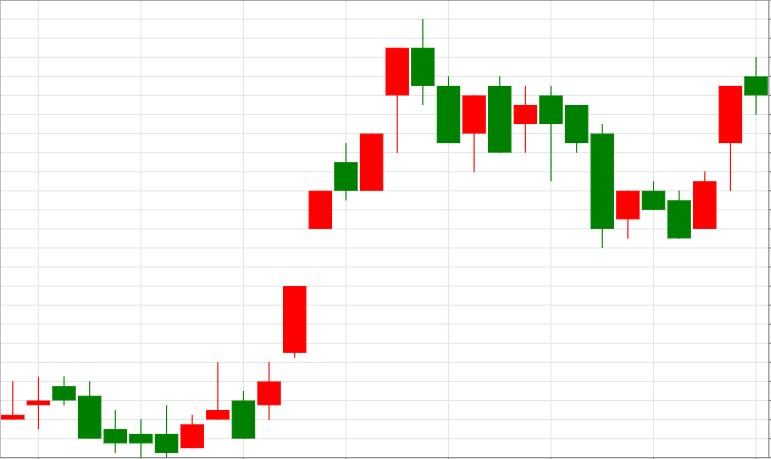hanging_man_fall: (258, 48, 409, 419)
